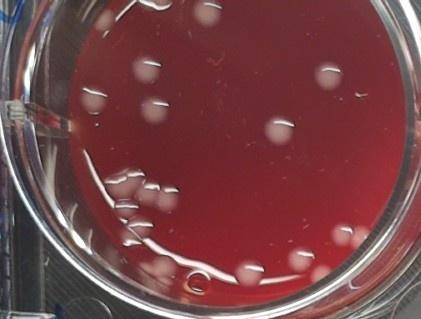vharveyi: (308, 58, 347, 98), (101, 164, 144, 200), (135, 183, 183, 214), (261, 113, 299, 151), (76, 83, 109, 119), (231, 258, 269, 289), (133, 54, 164, 88), (137, 96, 171, 127), (191, 0, 225, 30), (284, 245, 316, 275), (127, 214, 156, 241), (112, 194, 138, 221), (327, 222, 355, 247)
